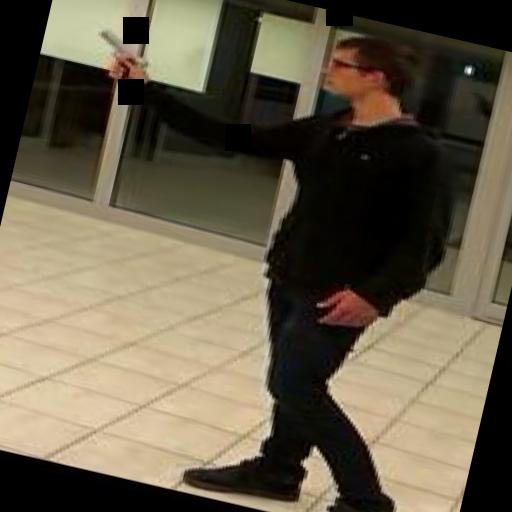Handgun: (72, 21, 158, 88)
